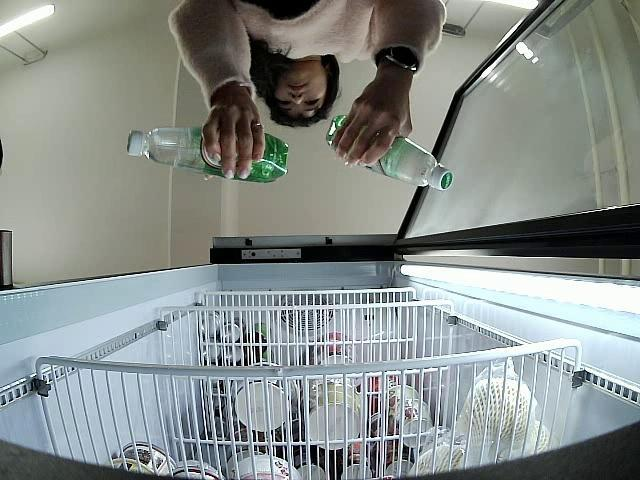18_trevi: (324, 112, 454, 194), (126, 125, 290, 186)
